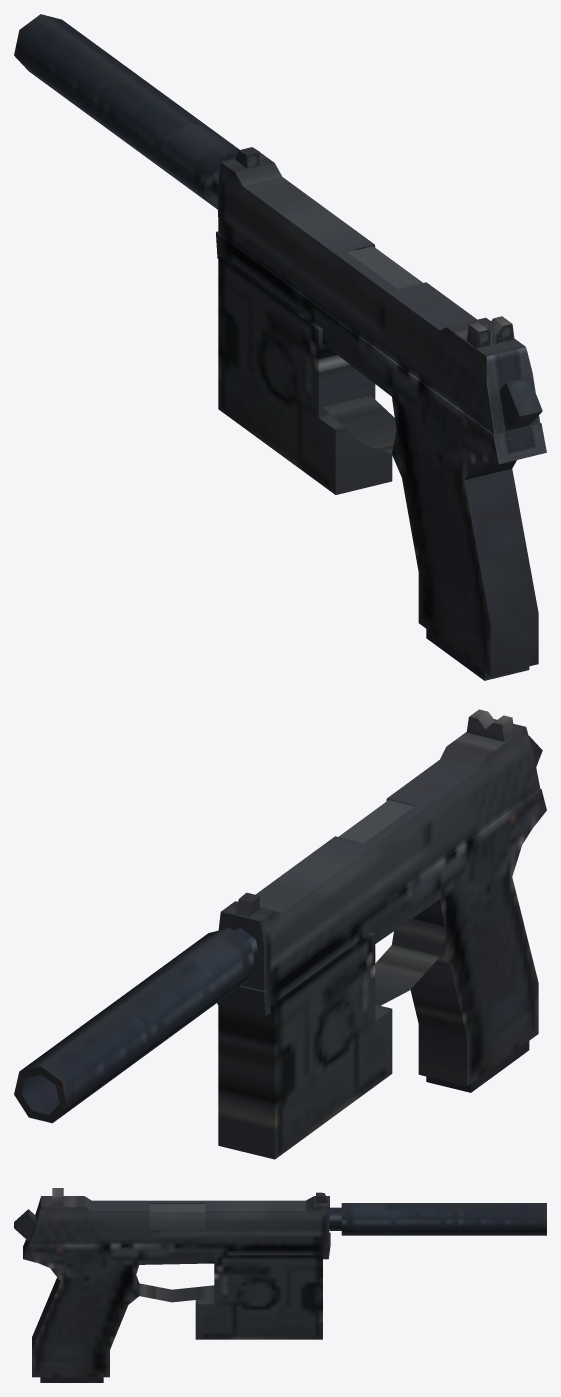
The model's file is mk23socom.glb.
3 renders of one model, top to bottom at view 1: azimuth 30°, elevation 25°; view 2: azimuth 150°, elevation 25°; view 3: azimuth 270°, elevation 25°, orthographic. The views are drawn at different scales.
Parts seen in each view (by area): view 1: body, slide, laser module, supressor, magazine; view 2: body, slide, laser module, supressor, magazine; view 3: body, slide, laser module, supressor, magazine.
Part boxes in pixels (x1,y1,x2,y2): body: (216,231,546,675); slide: (218,147,540,434); laser module: (218,255,392,494); supressor: (14,14,239,209); magazine: (426,629,529,680); body: (217,736,546,1086); slide: (218,709,540,990); laser module: (218,932,392,1159); supressor: (14,927,259,1123); magazine: (426,1041,529,1092); body: (14,1204,330,1377); slide: (29,1188,329,1244); laser module: (195,1255,322,1339); supressor: (329,1203,546,1235); magazine: (40,1377,103,1382).
Bounding box in the file's own units: 0.1365 × 0.7813 × 2.05.
Materials: 4 (4 with a texture image).
